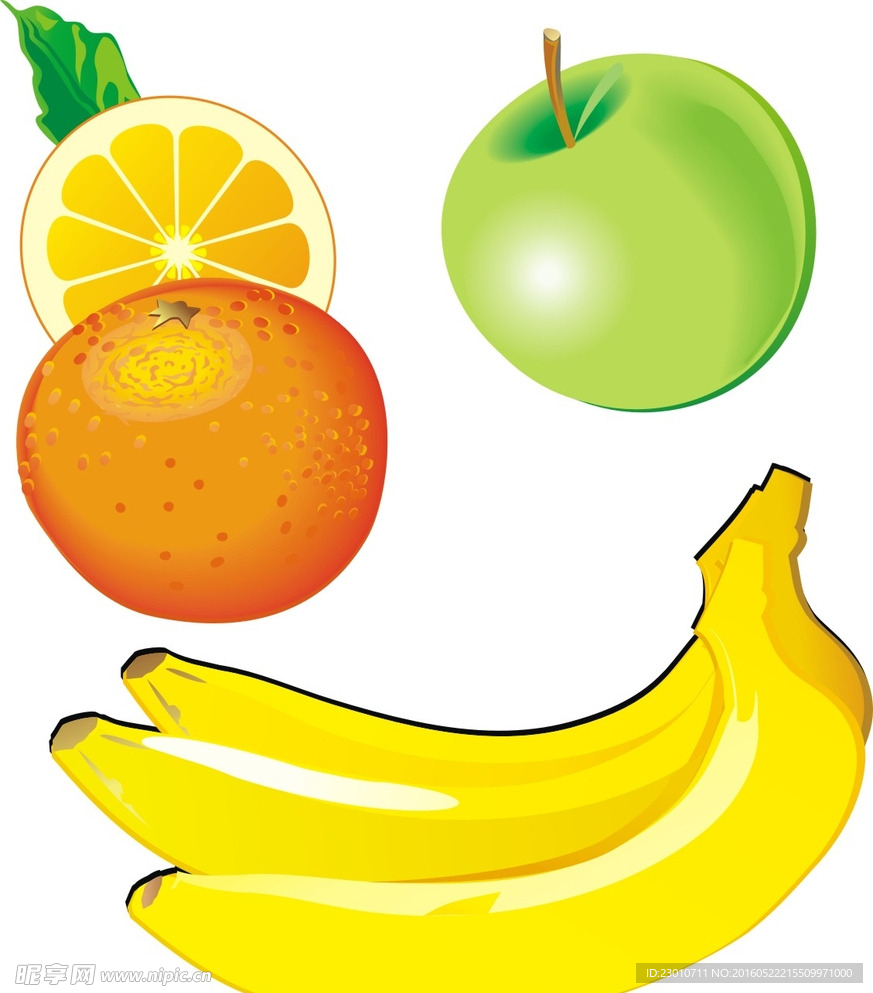apple: (436, 24, 834, 429)
banana: (1, 641, 872, 993)
orange: (2, 2, 413, 634)
